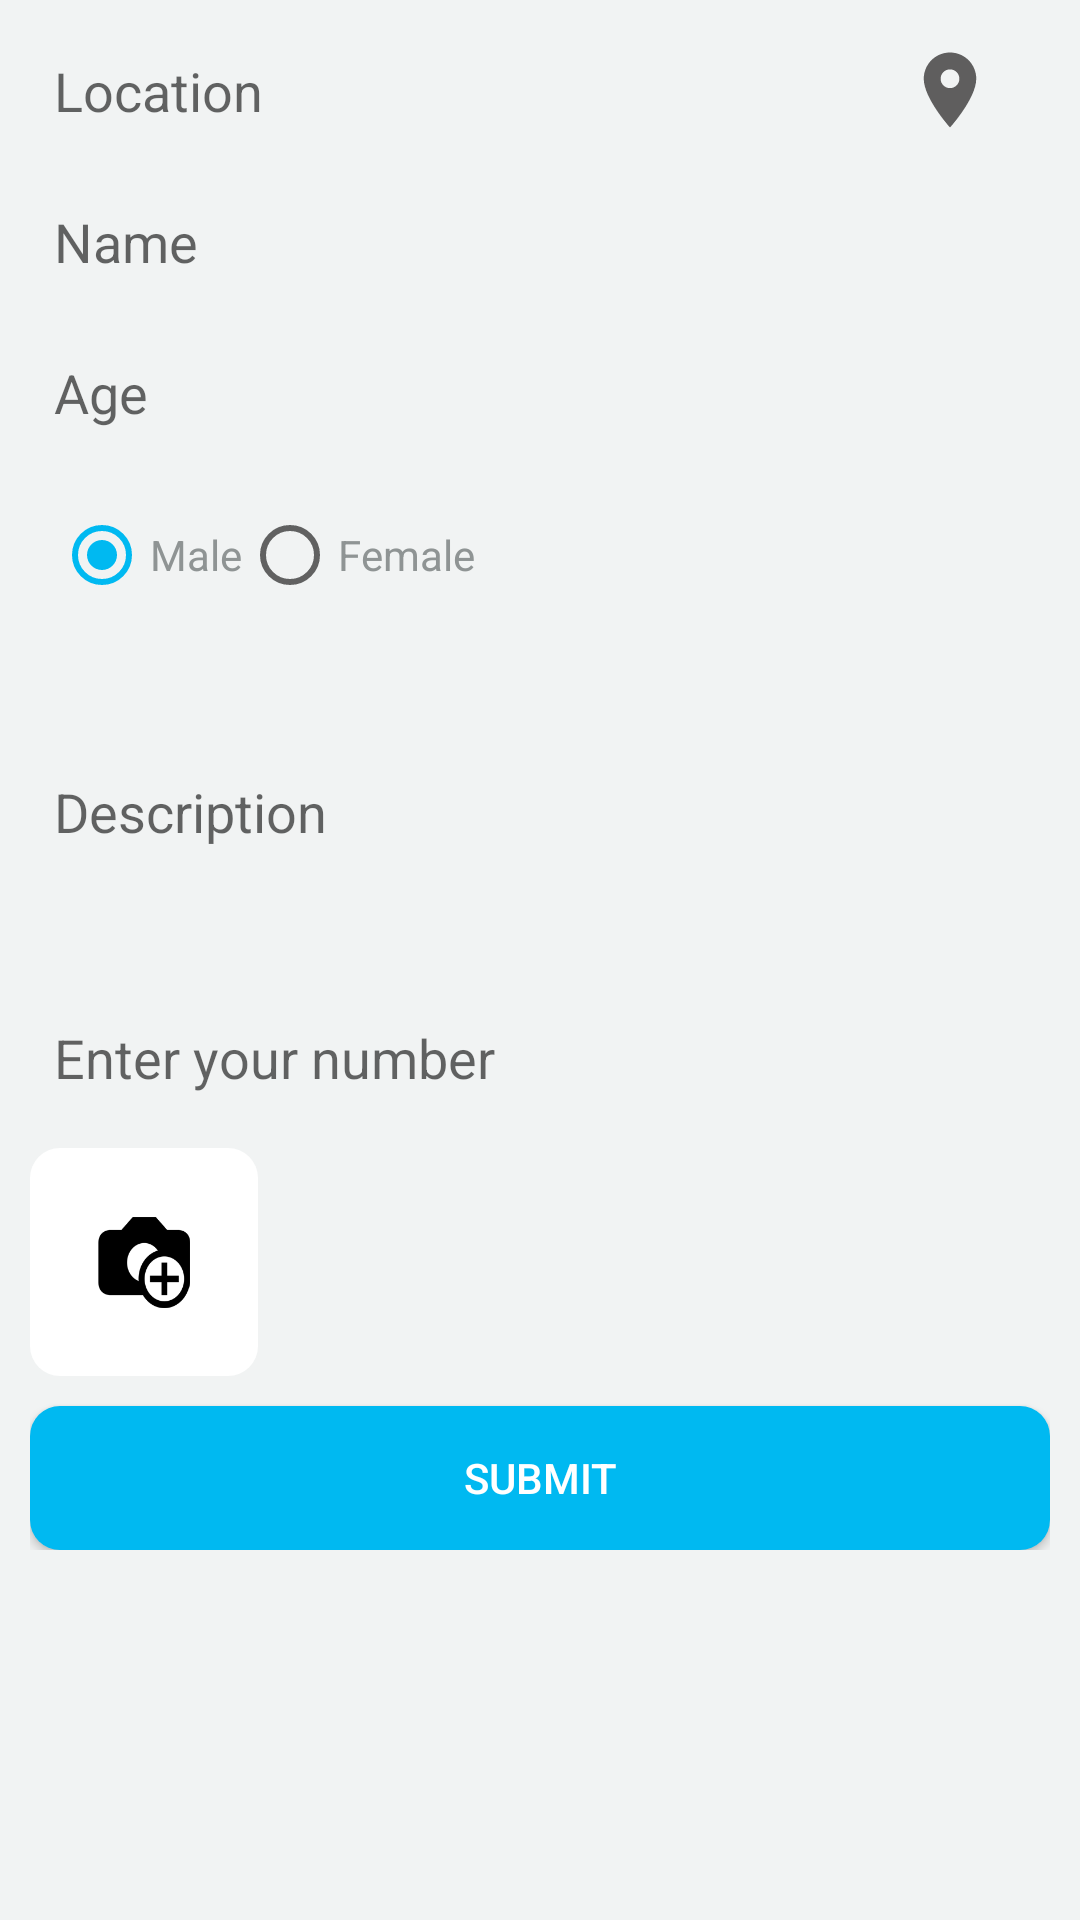

Screen size 1080*1920. Icon name, then its center in pixels as point (x, y):
add: point (144, 1262)
